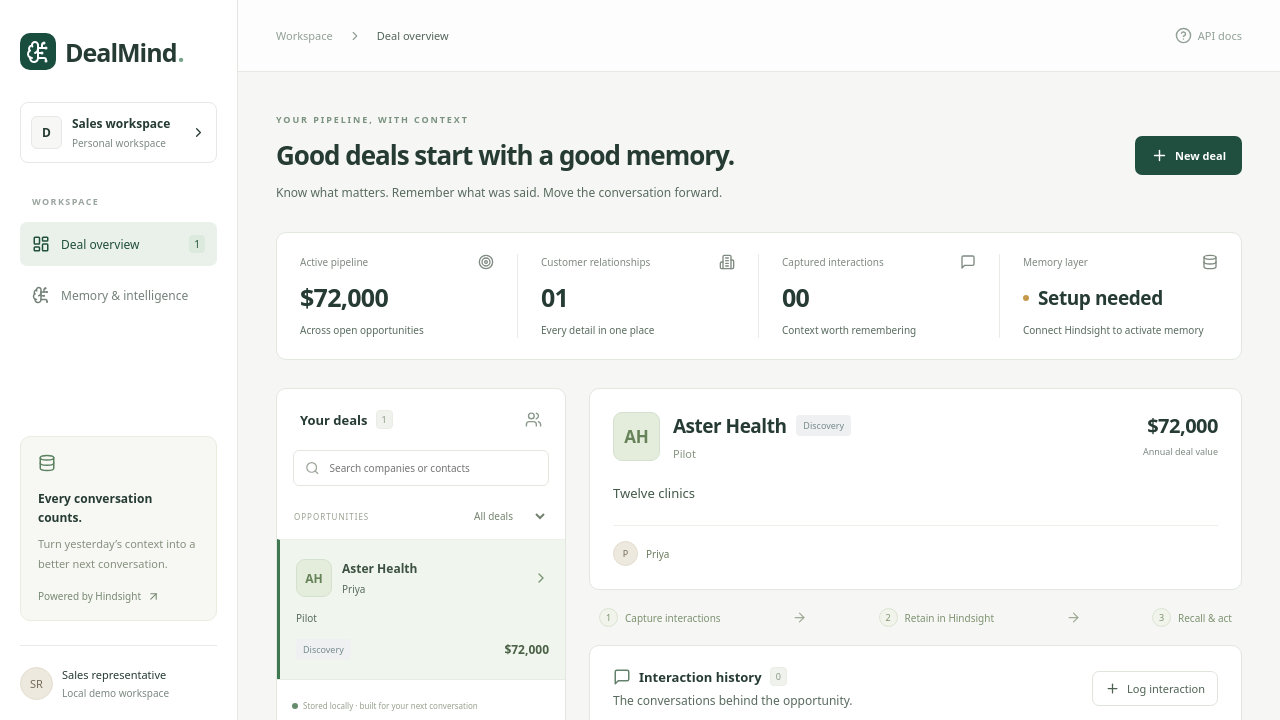
Scenario: DealMind dashboard › saves interaction through backend and shows failed delivery independently
Expected: the text "Twelve clinics" is shown, [613,484,695,502]
Click the button "Log interaction".
click(1155, 689)  # box [1092,671,1218,706]
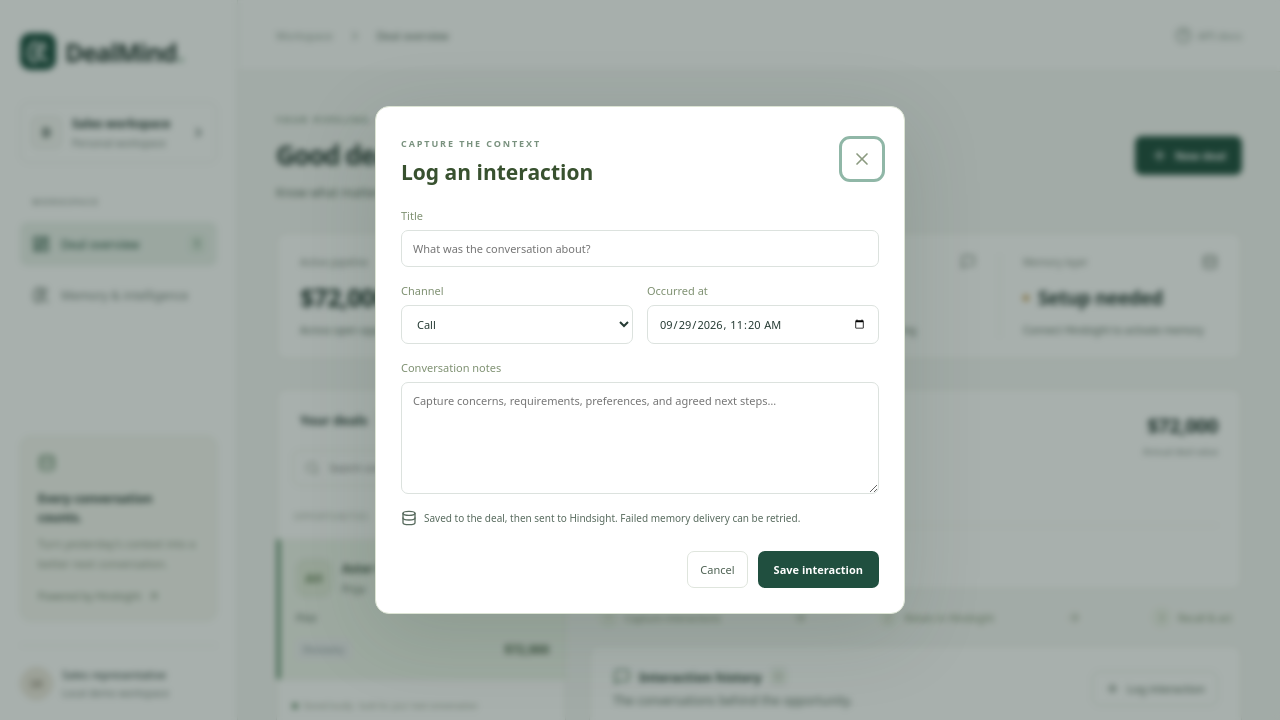
Type "SSO review" into the field labelled "Title".
click(640, 248); type("SSO review")  # box [401,230,879,267]
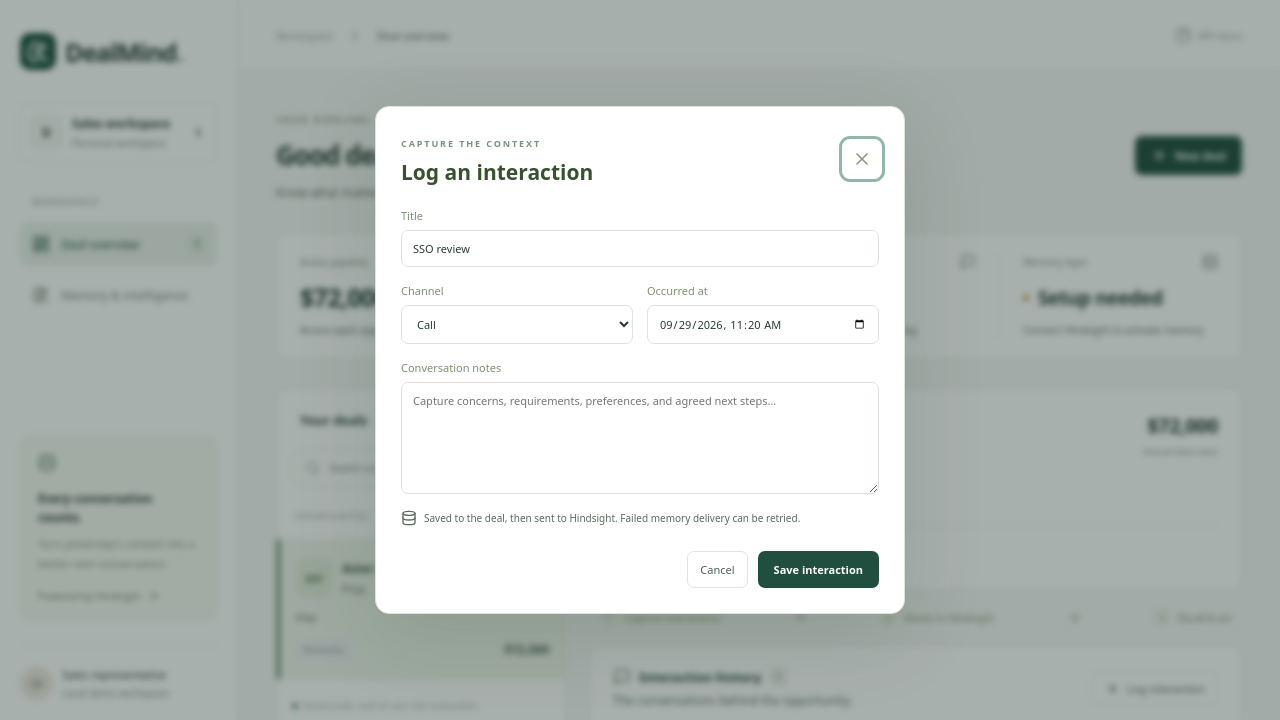
Replace the text in the text box labelled "Conversation notes" with "Requires SSO" at (640,438), box [401,382,879,494]
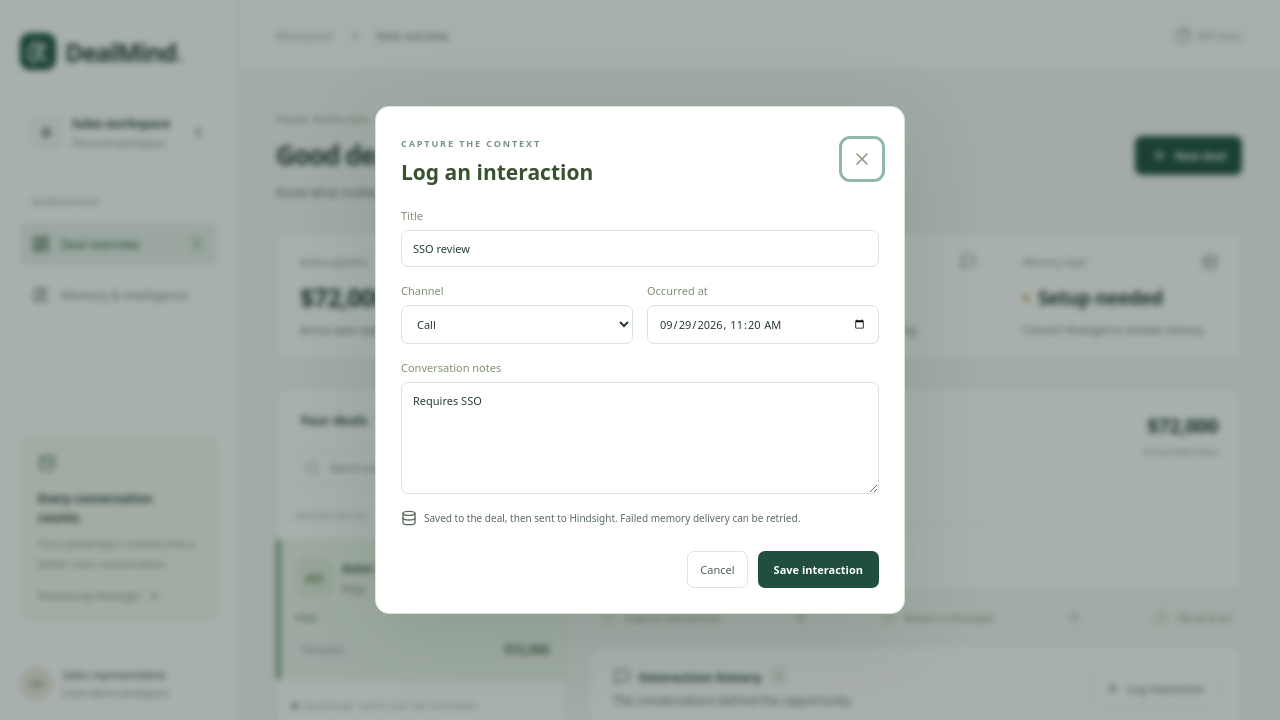
Click the button "Save interaction".
click(818, 570)  # box [758,551,879,588]
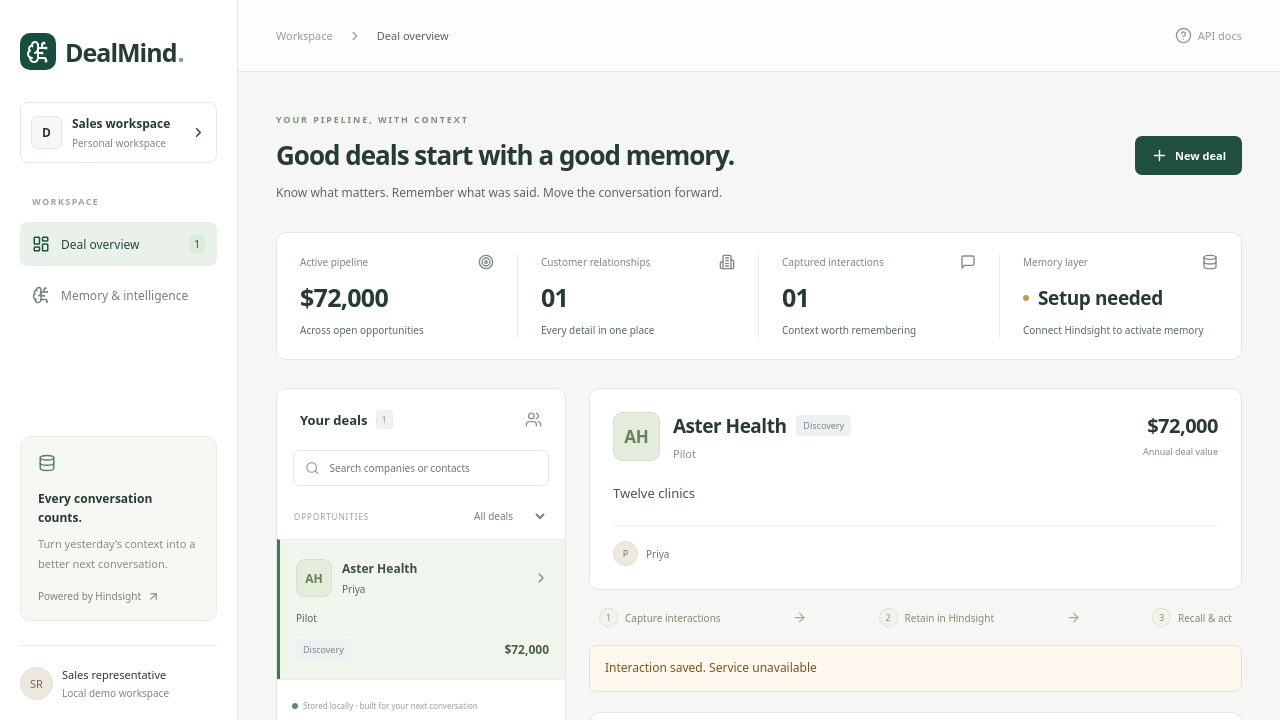
Expected: the message reads "Interaction saved. Service unavailable", [605,659,817,676]
